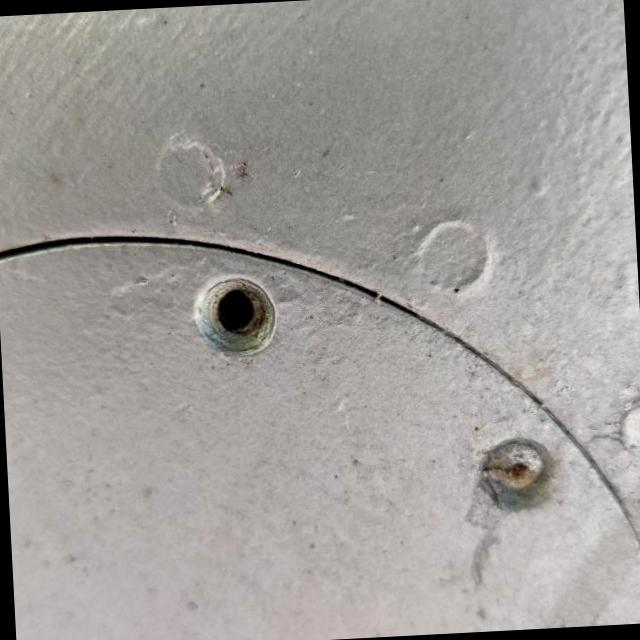Missing Fastener: (190, 272, 276, 357)
